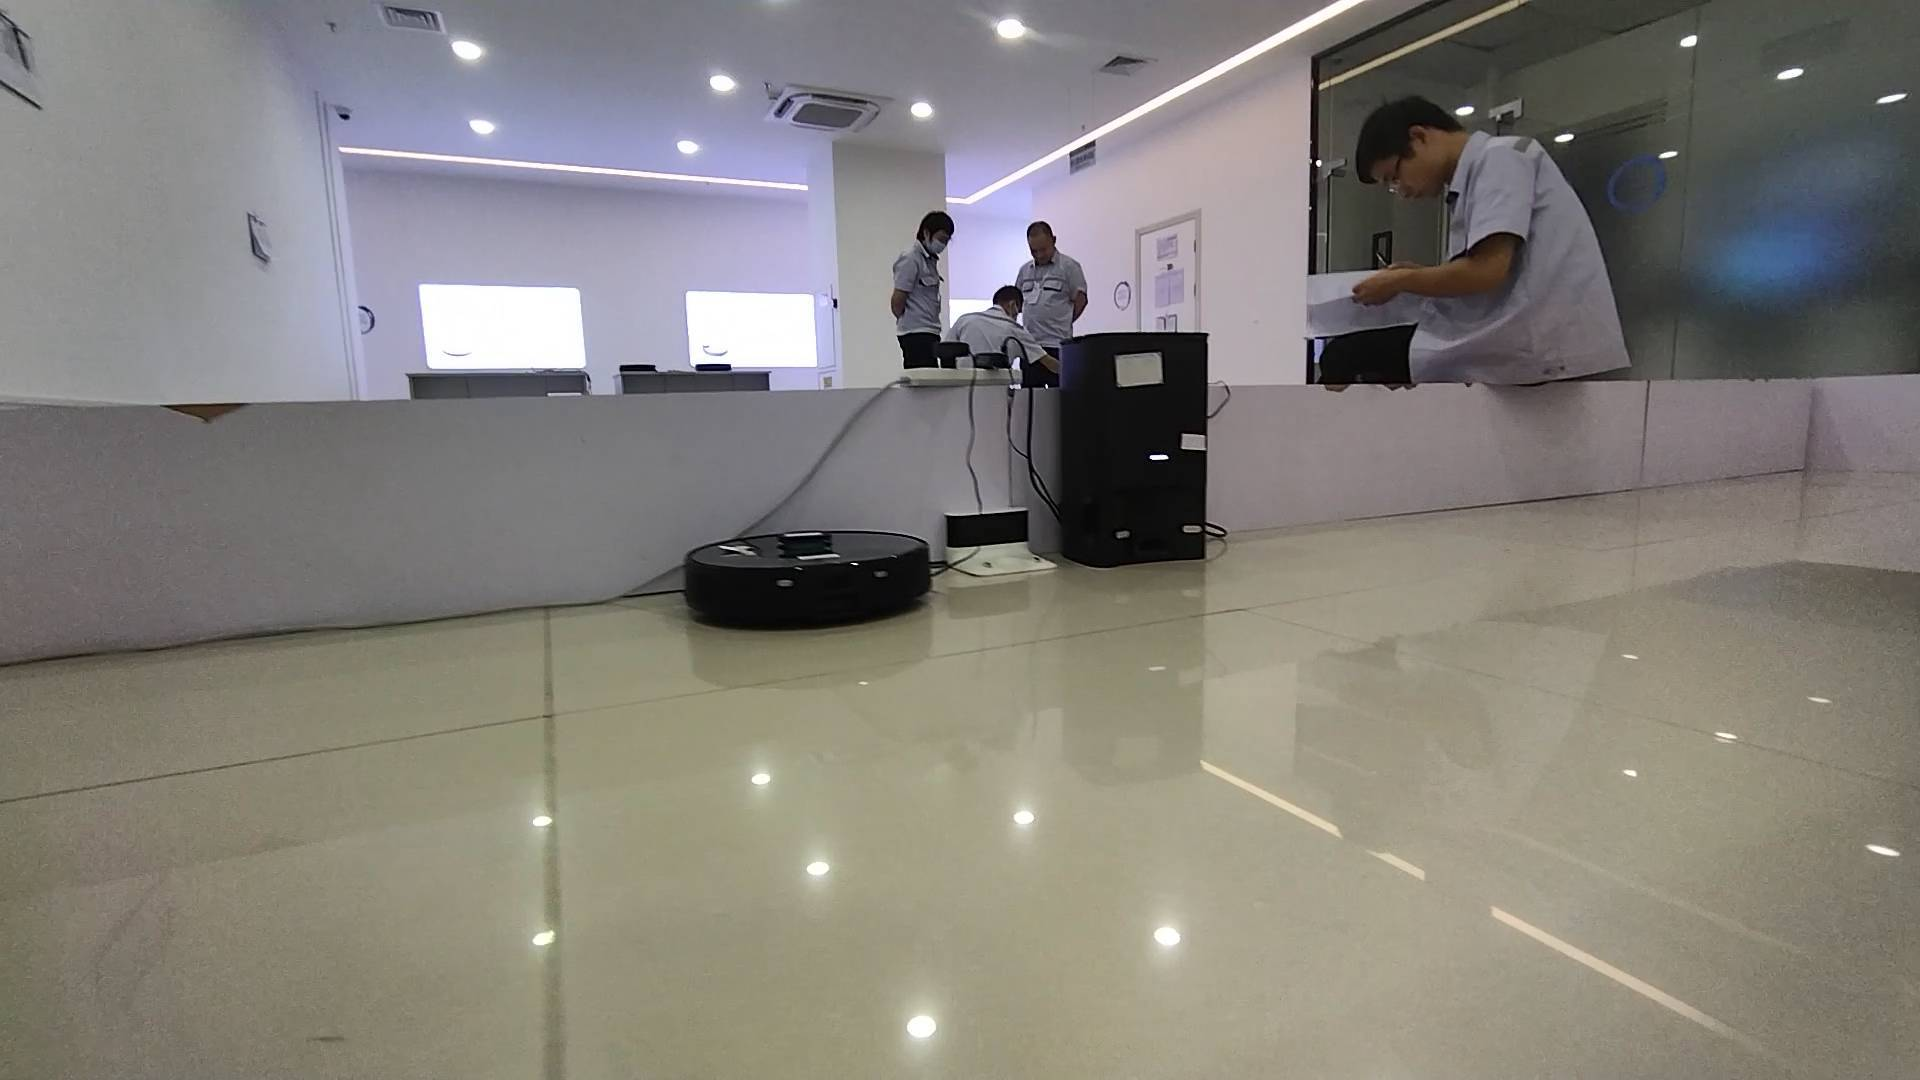dust collecting barrel: (1063, 334, 1207, 568)
recharge seat: (939, 506, 1063, 576)
